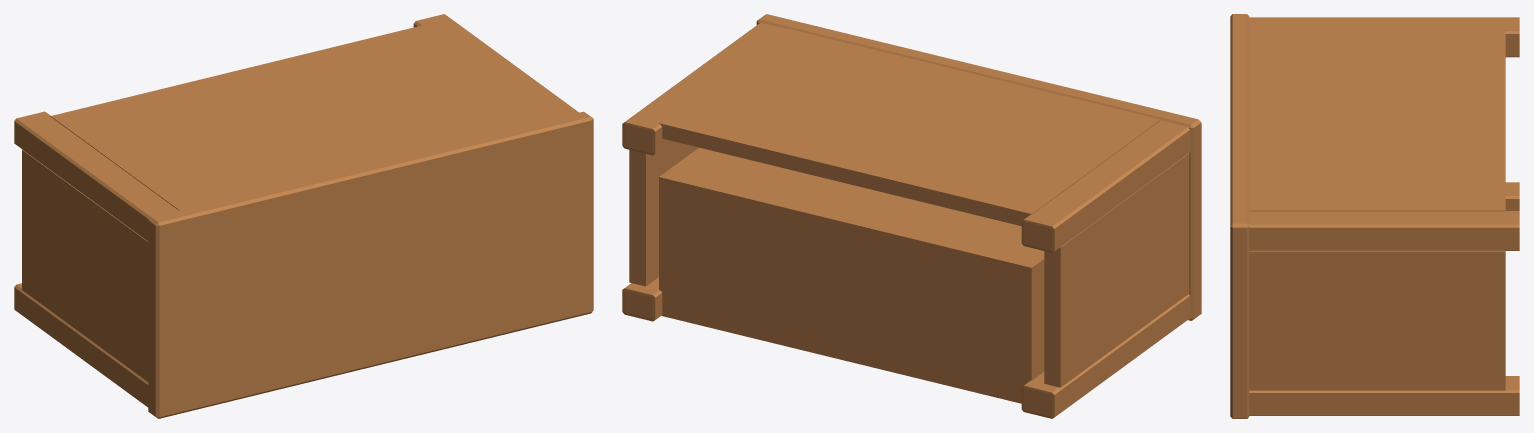
File: DressermeshSideTable_302_1_0.obj
3 views of the same model, side by side, from view 1: azimuth 30°, elevation 25°; view 2: azimuth 150°, elevation 25°; view 3: azimuth 270°, elevation 25° (orthographic).
Parts seen in each view (by area): view 1: SideTable_302_1; view 2: SideTable_302_1; view 3: SideTable_302_1.
Boxes of the visible parts, box(x1,y1,x2,y2) form: SideTable_302_1: box(14, 14, 593, 418); SideTable_302_1: box(622, 14, 1201, 418); SideTable_302_1: box(1230, 14, 1519, 418).
Size of the model in its own units: 1.16 by 0.4972 by 0.6681.
